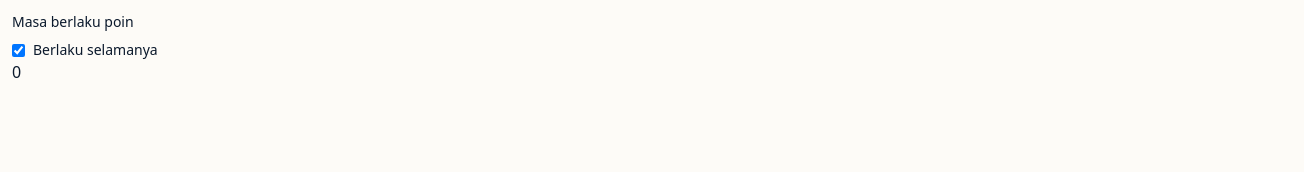
Test: existing permanent rules load checked and can switch back to a valid duration
Click the checkbox labelled "Berlaku selamanya".
click(18, 50)  # box left=12, top=44, right=25, bottom=56
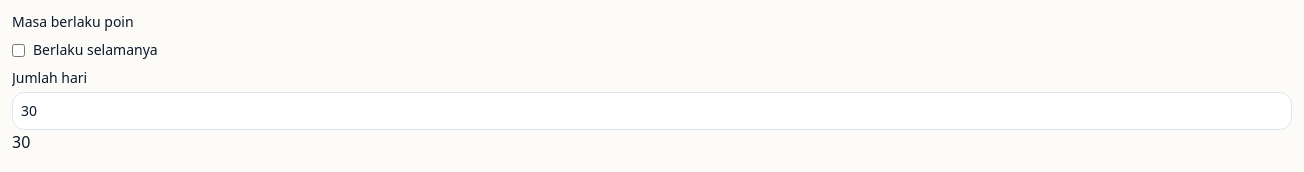
Check: the label "Berlaku selamanya" is shown, box left=12, top=40, right=158, bottom=59
Check: the number field labelled "Jumlah hari" holds "30", box left=12, top=92, right=1292, bottom=130
